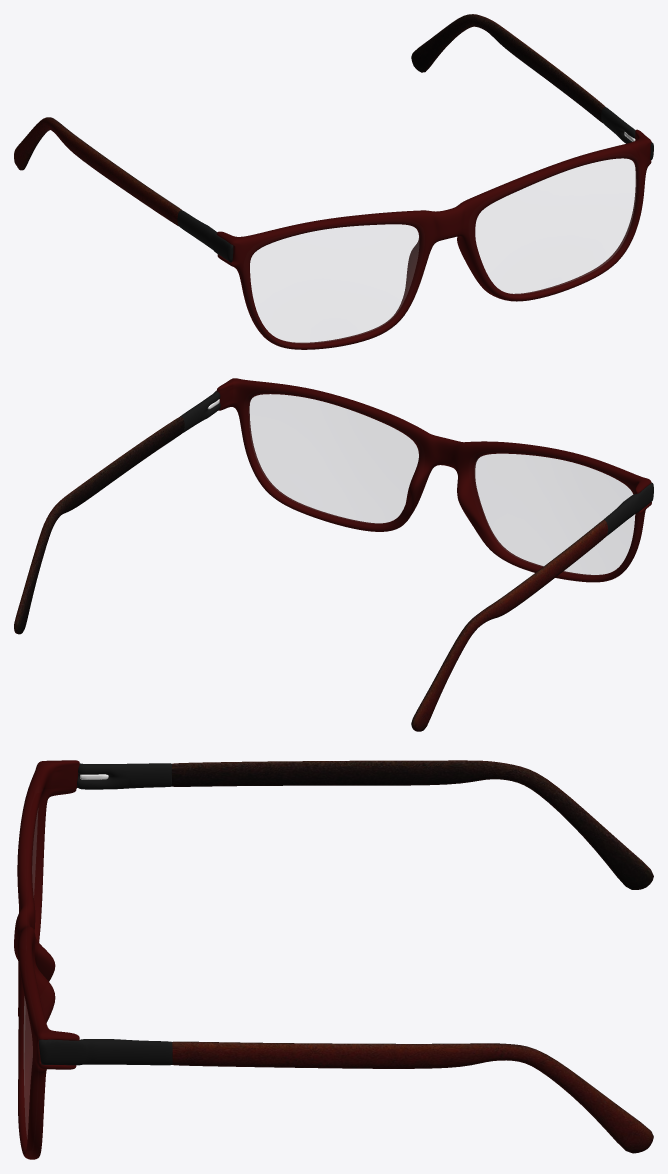
3 renders of one model, top to bottom at view 1: azimuth 30°, elevation 25°; view 2: azimuth 150°, elevation 25°; view 3: azimuth 270°, elevation 25°, orthographic. The views are drawn at different scales.
Visible parts, largest first — view 1: GooglesLents, GooglesFrame, GooglesFrameSupportEnd, GooglesFrameSupportMid; view 2: GooglesLents, GooglesFrame, GooglesFrameSupportEnd, GooglesFrameSupportMid; view 3: GooglesFrameSupportEnd, GooglesFrame, GooglesFrameSupportMid, GooglesLents.
Boxes of the visible parts, bbox=[...] form: GooglesLents: bbox=[250, 158, 636, 343]; GooglesFrame: bbox=[216, 129, 651, 349]; GooglesFrameSupportEnd: bbox=[14, 14, 605, 226]; GooglesFrameSupportMid: bbox=[177, 107, 653, 262]; GooglesLents: bbox=[249, 394, 634, 575]; GooglesFrame: bbox=[216, 378, 651, 582]; GooglesFrameSupportEnd: bbox=[14, 416, 607, 731]; GooglesFrameSupportMid: bbox=[180, 391, 653, 536]; GooglesFrameSupportEnd: bbox=[172, 760, 653, 1153]; GooglesFrame: bbox=[14, 760, 79, 1159]; GooglesFrameSupportMid: bbox=[39, 763, 172, 1065]; GooglesLents: bbox=[24, 812, 37, 1137].
Bounding box in the file's own units: 0.1471 × 0.0414 × 0.138.
Materials: 5 (1 with a texture image).
